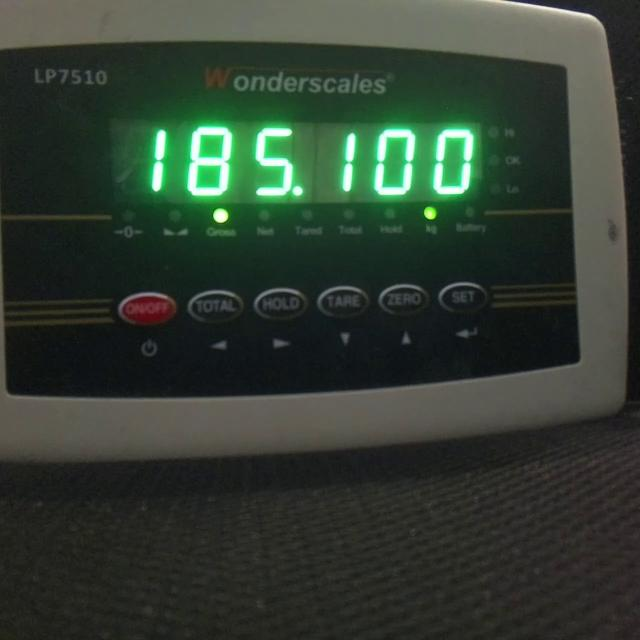.: (292, 186, 302, 196)
0: (374, 128, 416, 195), (434, 128, 474, 195)
1: (150, 129, 167, 192), (342, 133, 356, 191)
5: (254, 125, 294, 198)
8: (186, 125, 232, 196)
